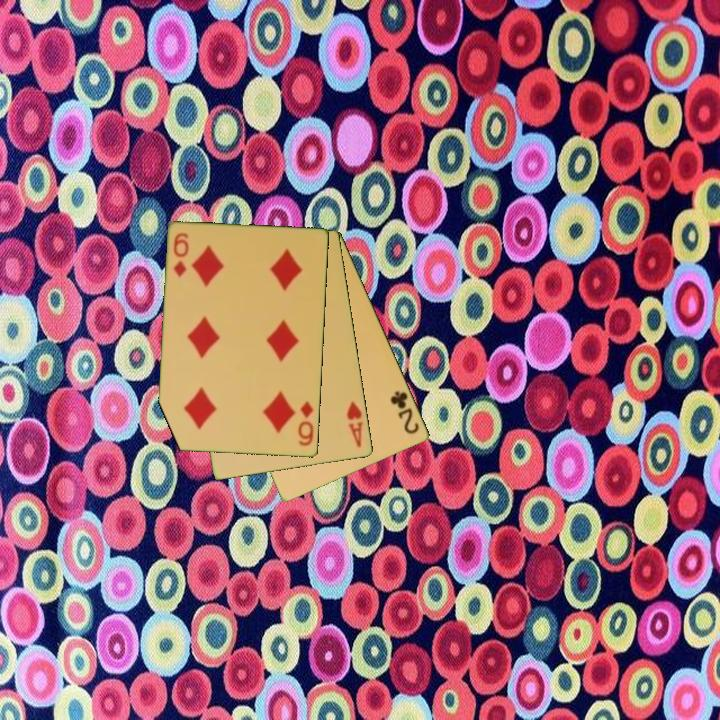2c: (387, 387, 422, 437)
6d: (295, 398, 317, 449), (170, 230, 192, 281)
Ah: (344, 398, 366, 451)
